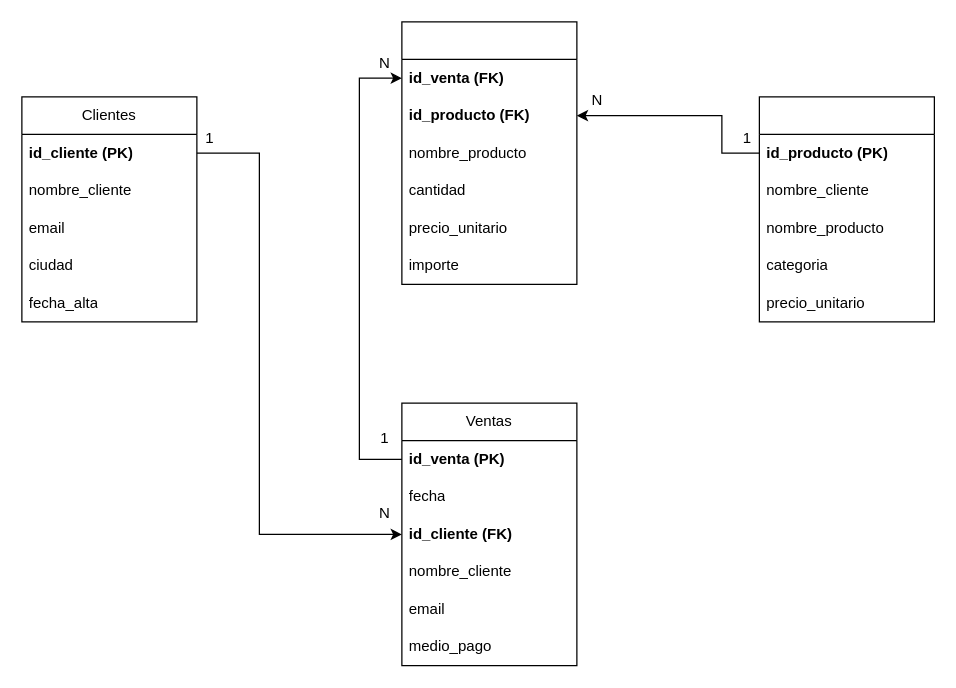
This 956x688 diagram has some shape labels left out. The box of each missing label's shape, as (x1, y1, x2, y2) in pixels:
Detalle_Ventas: (401, 21, 577, 284)
Productos: (758, 96, 934, 322)
